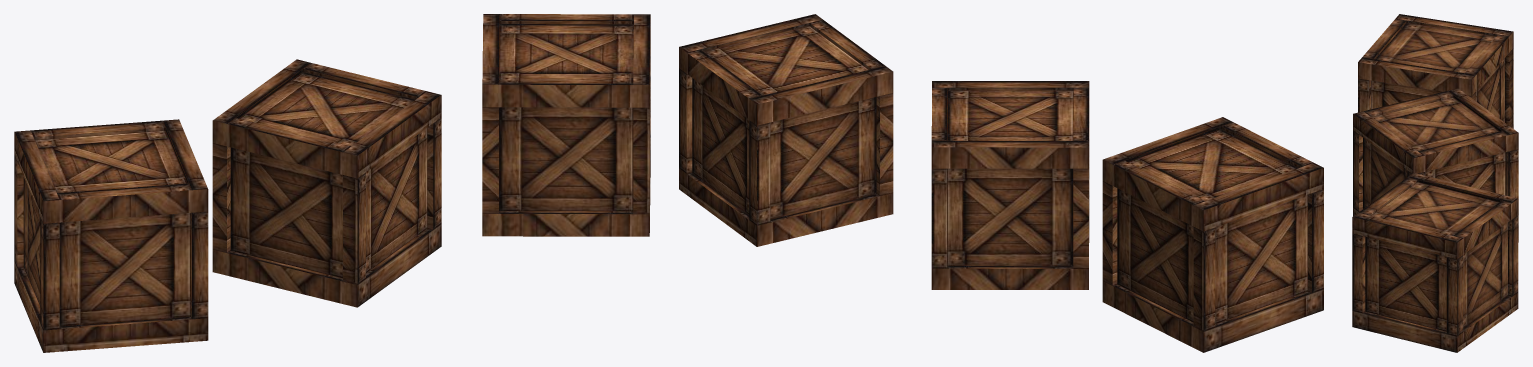
3 renders of one model, left to right at view 1: azimuth 30°, elevation 25°; view 2: azimuth 150°, elevation 25°; view 3: azimuth 270°, elevation 25°, orthographic. The views are drawn at different scales.
Parts seen in each view (by area): view 1: pCube2, pCube1, pCube3; view 2: pCube1, pCube3, pCube2; view 3: pCube3, pCube2, pCube1.
Boxes of the visible parts, x1=… form: pCube2: x1=212, y1=59, x2=441, y2=307; pCube1: x1=14, y1=119, x2=208, y2=352; pCube3: x1=482, y1=14, x2=650, y2=236; pCube1: x1=1102, y1=117, x2=1323, y2=352; pCube3: x1=679, y1=14, x2=893, y2=246; pCube2: x1=931, y1=81, x2=1089, y2=289; pCube3: x1=1352, y1=173, x2=1518, y2=352; pCube2: x1=1353, y1=88, x2=1518, y2=242; pCube1: x1=1358, y1=14, x2=1513, y2=128.
Size of the model in its own units: 223 by 50 by 68.49.
1 material, 1 textured.
